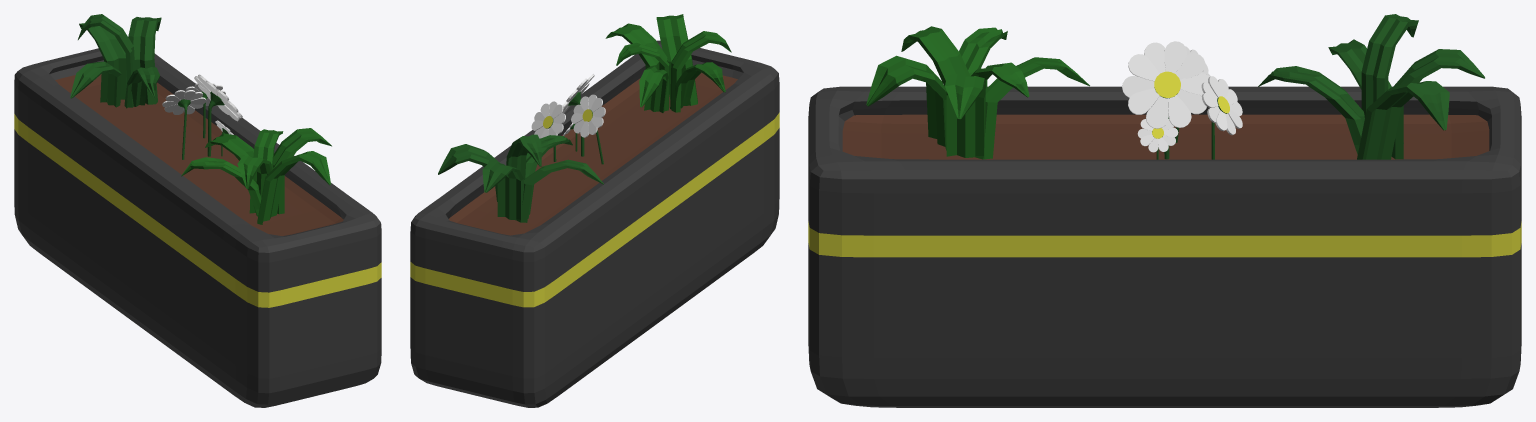
The model's file is plant-02.fbx.
3 renders of one model, left to right at view 1: azimuth 30°, elevation 25°; view 2: azimuth 150°, elevation 25°; view 3: azimuth 270°, elevation 25°, orthographic. The views are drawn at different scales.
Parts seen in each view (by area): view 1: Pot, Cube.004, Cube.007, Cylinder; view 2: Pot, Cube.007, Cube.004, Cylinder; view 3: Pot, Cube.007, Cube.004, Cylinder.
Part boxes in pixels (x1,y1,x2,y2): Pot: (14, 48, 381, 407); Cube.004: (70, 14, 161, 108); Cube.007: (181, 128, 331, 224); Cylinder: (162, 74, 242, 159); Pot: (410, 40, 779, 407); Cube.007: (605, 14, 731, 112); Cube.004: (438, 134, 603, 222); Cylinder: (531, 74, 605, 164); Pot: (808, 86, 1521, 407); Cube.007: (866, 26, 1089, 159); Cube.004: (1258, 14, 1484, 159); Cylinder: (1122, 41, 1242, 159).
Size of the model in its own units: 31.87 by 52.96 by 100.
